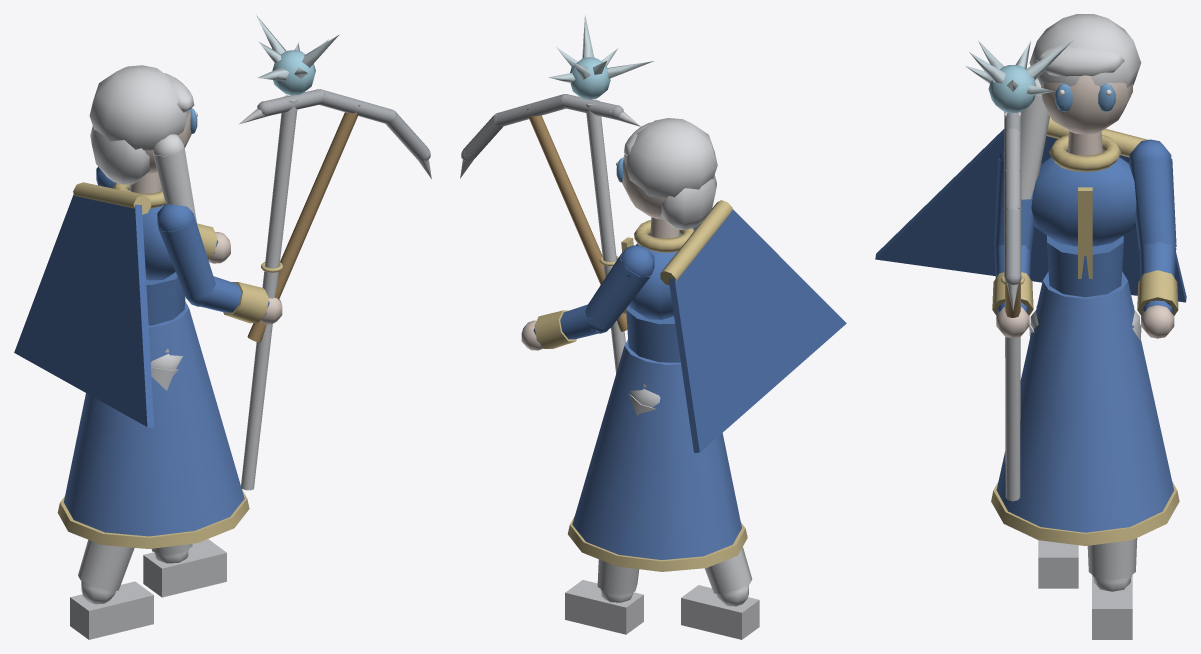
Rendered from hero_1_ice_sorceress.glb.
3 views of the same model, side by side, from view 1: azimuth 30°, elevation 25°; view 2: azimuth 150°, elevation 25°; view 3: azimuth 270°, elevation 25° (orthographic). The views are drawn at different scales.
Visible parts, largest first — view 1: Hips, Cape, Head, Weapon, LegR, Pickaxe, ArmR, Torso, LegL, ArmL; view 2: Hips, Cape, Head, Torso, Pickaxe, ArmL, Weapon, LegL, LegR; view 3: Hips, Torso, Cape, Head, ArmL, Weapon, LegL, ArmR, Pickaxe, LegR.
Boxes of the visible parts, x1,y1,x2,y2 form: Hips: [57, 301, 249, 548]; Cape: [14, 182, 154, 427]; Head: [89, 65, 197, 224]; Weapon: [241, 15, 338, 490]; LegR: [70, 354, 182, 639]; Pickaxe: [238, 89, 431, 342]; ArmR: [157, 204, 282, 324]; Torso: [113, 172, 185, 352]; LegL: [143, 539, 226, 597]; ArmL: [96, 167, 230, 263]; Hips: [568, 340, 747, 571]; Cape: [660, 200, 846, 452]; Head: [616, 118, 717, 229]; Torso: [621, 217, 694, 387]; Pickaxe: [460, 94, 640, 331]; ArmL: [521, 245, 654, 350]; Weapon: [548, 15, 653, 373]; LegL: [565, 389, 660, 634]; LegR: [681, 547, 759, 639]; Hips: [991, 271, 1179, 545]; Torso: [1031, 131, 1136, 307]; Cape: [875, 117, 1186, 302]; Head: [1021, 14, 1141, 199]; ArmL: [1128, 139, 1178, 338]; Weapon: [965, 41, 1072, 501]; LegL: [1087, 310, 1141, 639]; ArmR: [992, 149, 1041, 338]; Pickaxe: [1004, 111, 1021, 317]; LegR: [1029, 310, 1078, 588].
Bounding box in the file's own units: 1.77 × 2.79 × 1.28.
